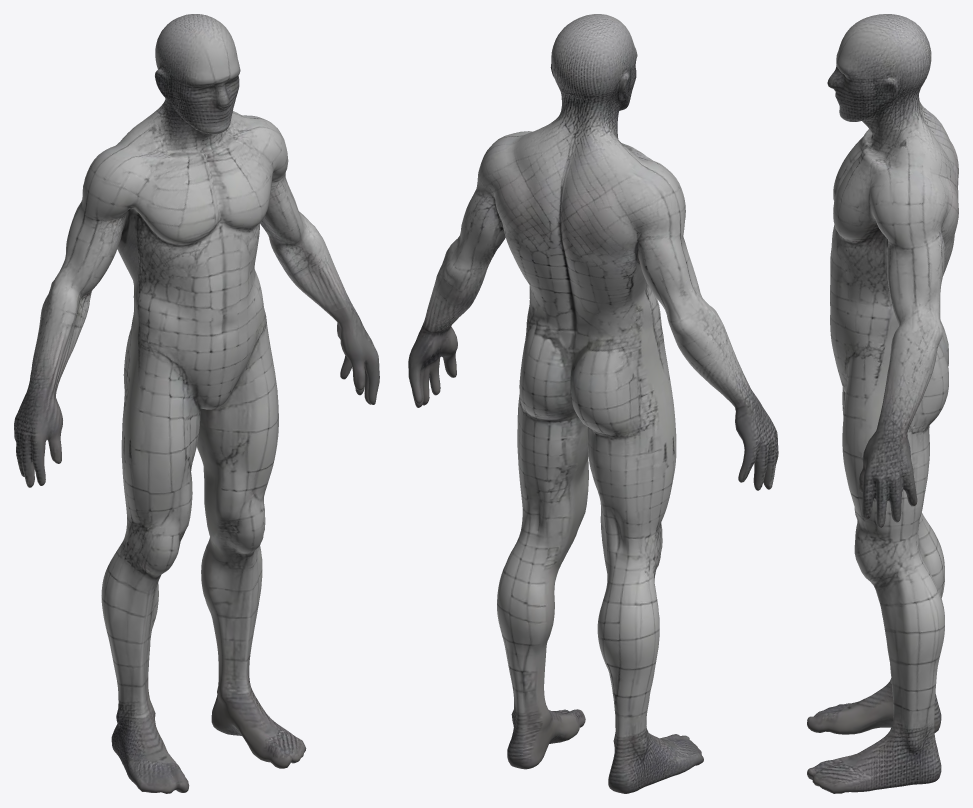
File: suspect_biometric.glb
The picture shows the model from 3 angles, left to right: view 1: azimuth 30°, elevation 25°; view 2: azimuth 150°, elevation 25°; view 3: azimuth 270°, elevation 25°; orthographic projection.
Visible parts, largest first — view 1: Object_2; view 2: Object_2; view 3: Object_2.
Boxes of the visible parts, x1,y1,x2,y2 form: Object_2: (14,14,379,793); Object_2: (408,14,778,793); Object_2: (807,14,958,793).
Bounding box in the file's own units: 0.9618 × 1.91 × 0.356.
1 material, 1 textured.
